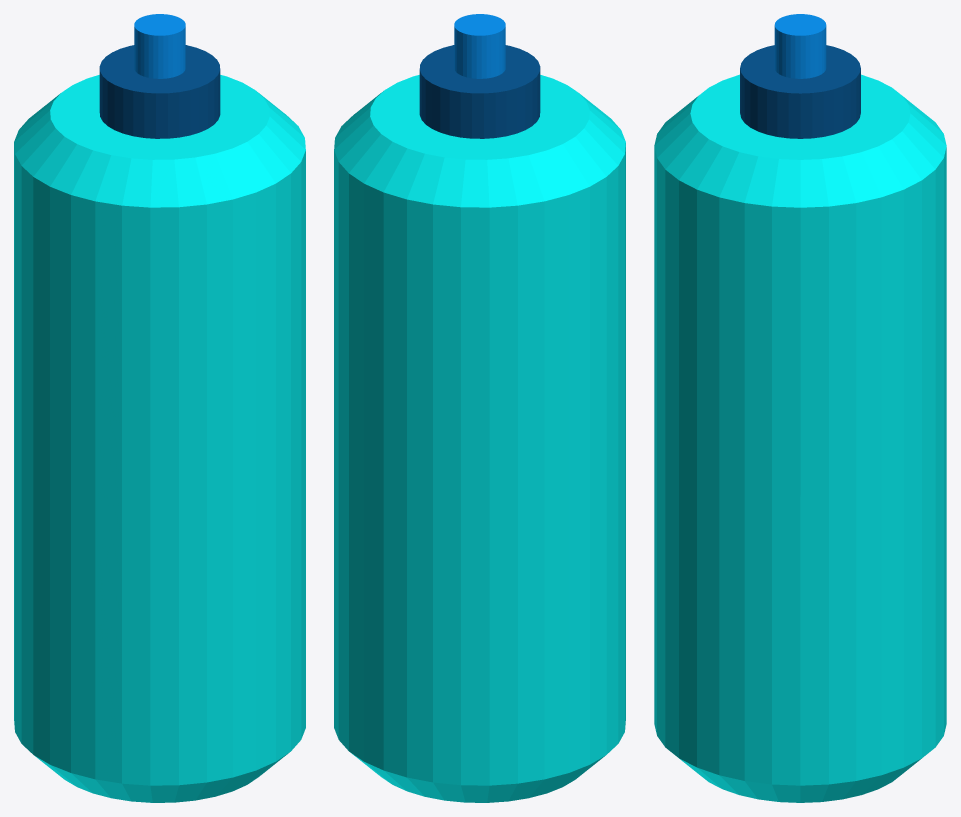
File: WaterBottle1.fbx
The picture shows the model from 3 angles, left to right: view 1: azimuth 30°, elevation 25°; view 2: azimuth 150°, elevation 25°; view 3: azimuth 270°, elevation 25°; orthographic projection.
Visible parts, largest first — view 1: WaterBottle1; view 2: WaterBottle1; view 3: WaterBottle1.
Part boxes in pixels (x1,y1,x2,y2): WaterBottle1: (14, 14, 305, 802); WaterBottle1: (334, 14, 625, 802); WaterBottle1: (654, 14, 946, 802).
Bounding box in the file's own units: 220 × 607 × 220.
